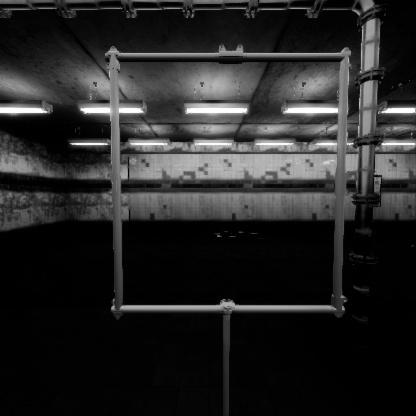gate: (110, 100, 371, 363)
